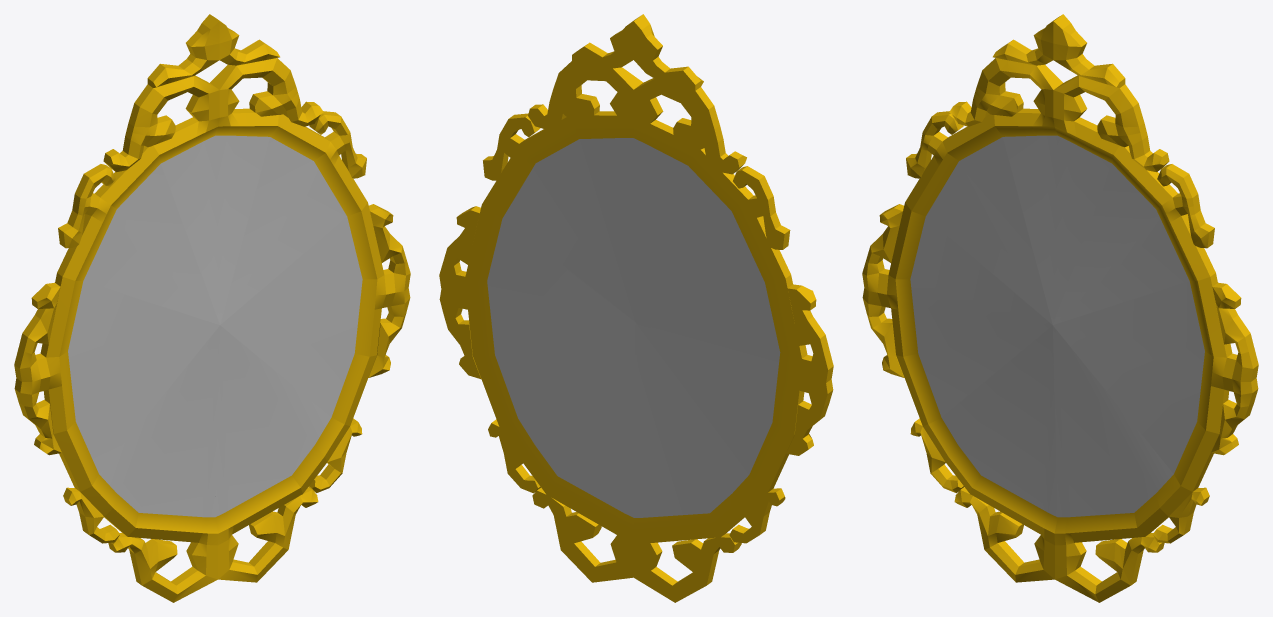
File: Mansion_Mirror_Shards.fbx
3 renders of one model, left to right at view 1: azimuth 30°, elevation 25°; view 2: azimuth 150°, elevation 25°; view 3: azimuth 330°, elevation 25°, orthographic.
Visible parts, largest first — view 1: Mirror_Shard_1, Mirror_Shard_4, Mirror_Shard_5, Mirror_Shard_6, Mirror_Shard_7, Mirror_Shard_2, Mirror_Shard_3; view 2: Mirror_Shard_1, Mirror_Shard_4, Mirror_Shard_5, Mirror_Shard_6, Mirror_Shard_7, Mirror_Shard_2, Mirror_Shard_3; view 3: Mirror_Shard_1, Mirror_Shard_5, Mirror_Shard_4, Mirror_Shard_7, Mirror_Shard_6, Mirror_Shard_3, Mirror_Shard_2.
Part boxes in pixels (left/top/right/bottom): Mirror_Shard_1: left=103, top=14, right=323, bottom=324; Mirror_Shard_4: left=14, top=273, right=219, bottom=491; Mirror_Shard_5: left=220, top=203, right=410, bottom=425; Mirror_Shard_6: left=63, top=325, right=220, bottom=602; Mirror_Shard_7: left=215, top=325, right=362, bottom=582; Mirror_Shard_2: left=57, top=145, right=219, bottom=324; Mirror_Shard_3: left=220, top=111, right=367, bottom=324; Mirror_Shard_1: left=528, top=14, right=746, bottom=321; Mirror_Shard_4: left=635, top=275, right=833, bottom=492; Mirror_Shard_5: left=439, top=205, right=634, bottom=426; Mirror_Shard_6: left=633, top=323, right=785, bottom=602; Mirror_Shard_7: left=488, top=322, right=635, bottom=582; Mirror_Shard_2: left=635, top=146, right=790, bottom=321; Mirror_Shard_3: left=482, top=113, right=634, bottom=321; Mirror_Shard_1: left=949, top=14, right=1169, bottom=324; Mirror_Shard_5: left=1053, top=273, right=1258, bottom=491; Mirror_Shard_4: left=862, top=203, right=1052, bottom=425; Mirror_Shard_7: left=1052, top=325, right=1209, bottom=602; Mirror_Shard_6: left=910, top=325, right=1057, bottom=582; Mirror_Shard_3: left=1053, top=145, right=1215, bottom=324; Mirror_Shard_2: left=905, top=111, right=1052, bottom=324.
Size of the model in its own units: 118 by 165 by 5.47.
